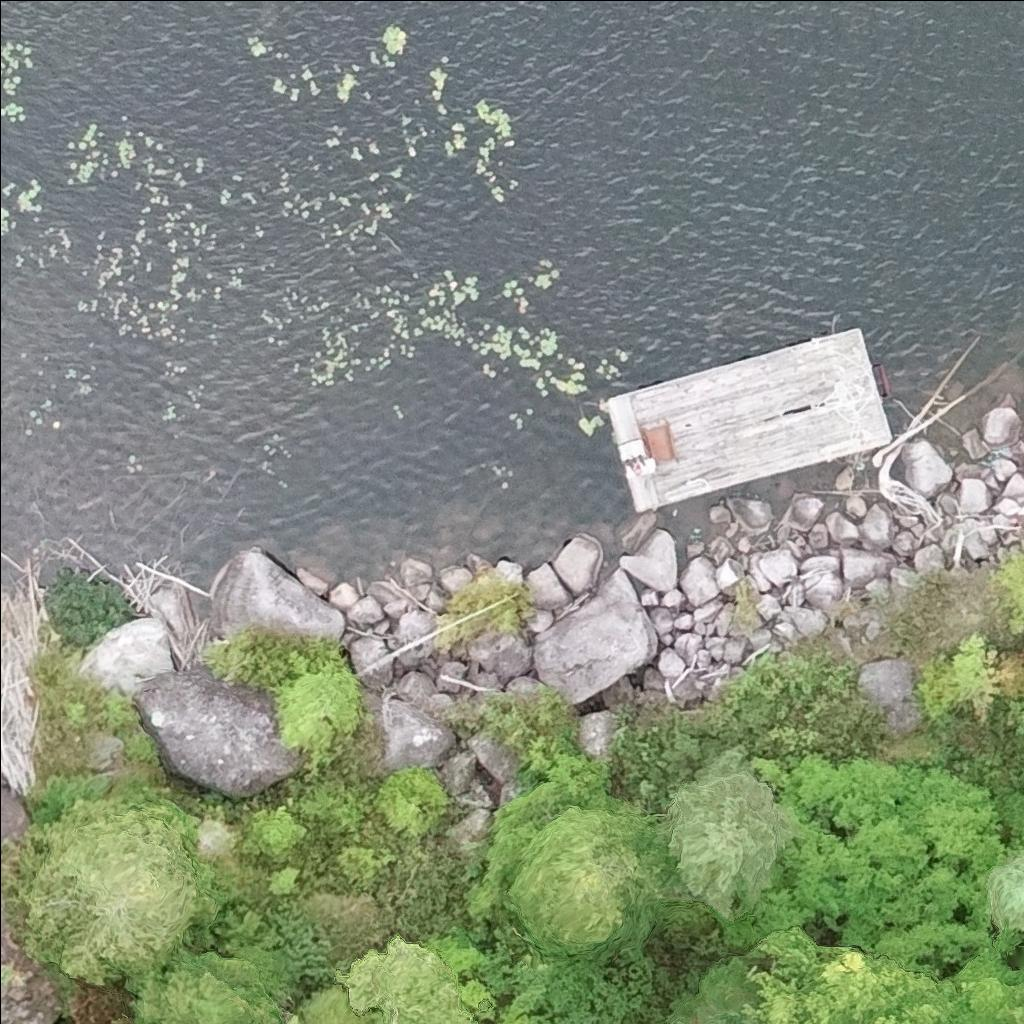crown: (14, 789, 221, 983), (504, 803, 677, 964), (657, 767, 800, 919), (751, 922, 961, 1023), (117, 946, 282, 1023), (339, 933, 475, 1023), (269, 662, 362, 750), (985, 849, 1023, 932), (1003, 1003, 1023, 1023)
